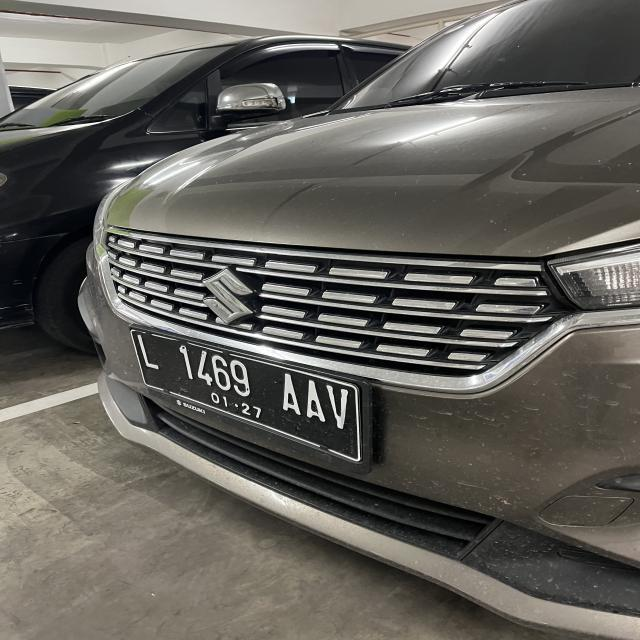1: (178, 346, 194, 382)
4: (196, 350, 212, 388)
6: (211, 353, 230, 392)
9: (230, 358, 252, 399)
A: (279, 373, 300, 416), (305, 377, 325, 422)
L: (134, 332, 162, 372)
V: (326, 384, 352, 430)
